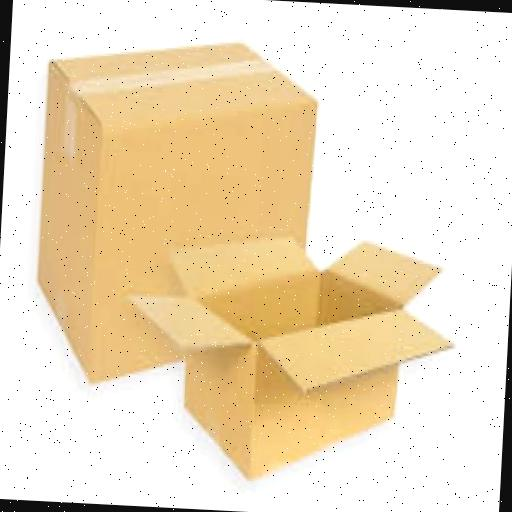cardboard: (34, 28, 322, 395), (118, 226, 464, 488)
